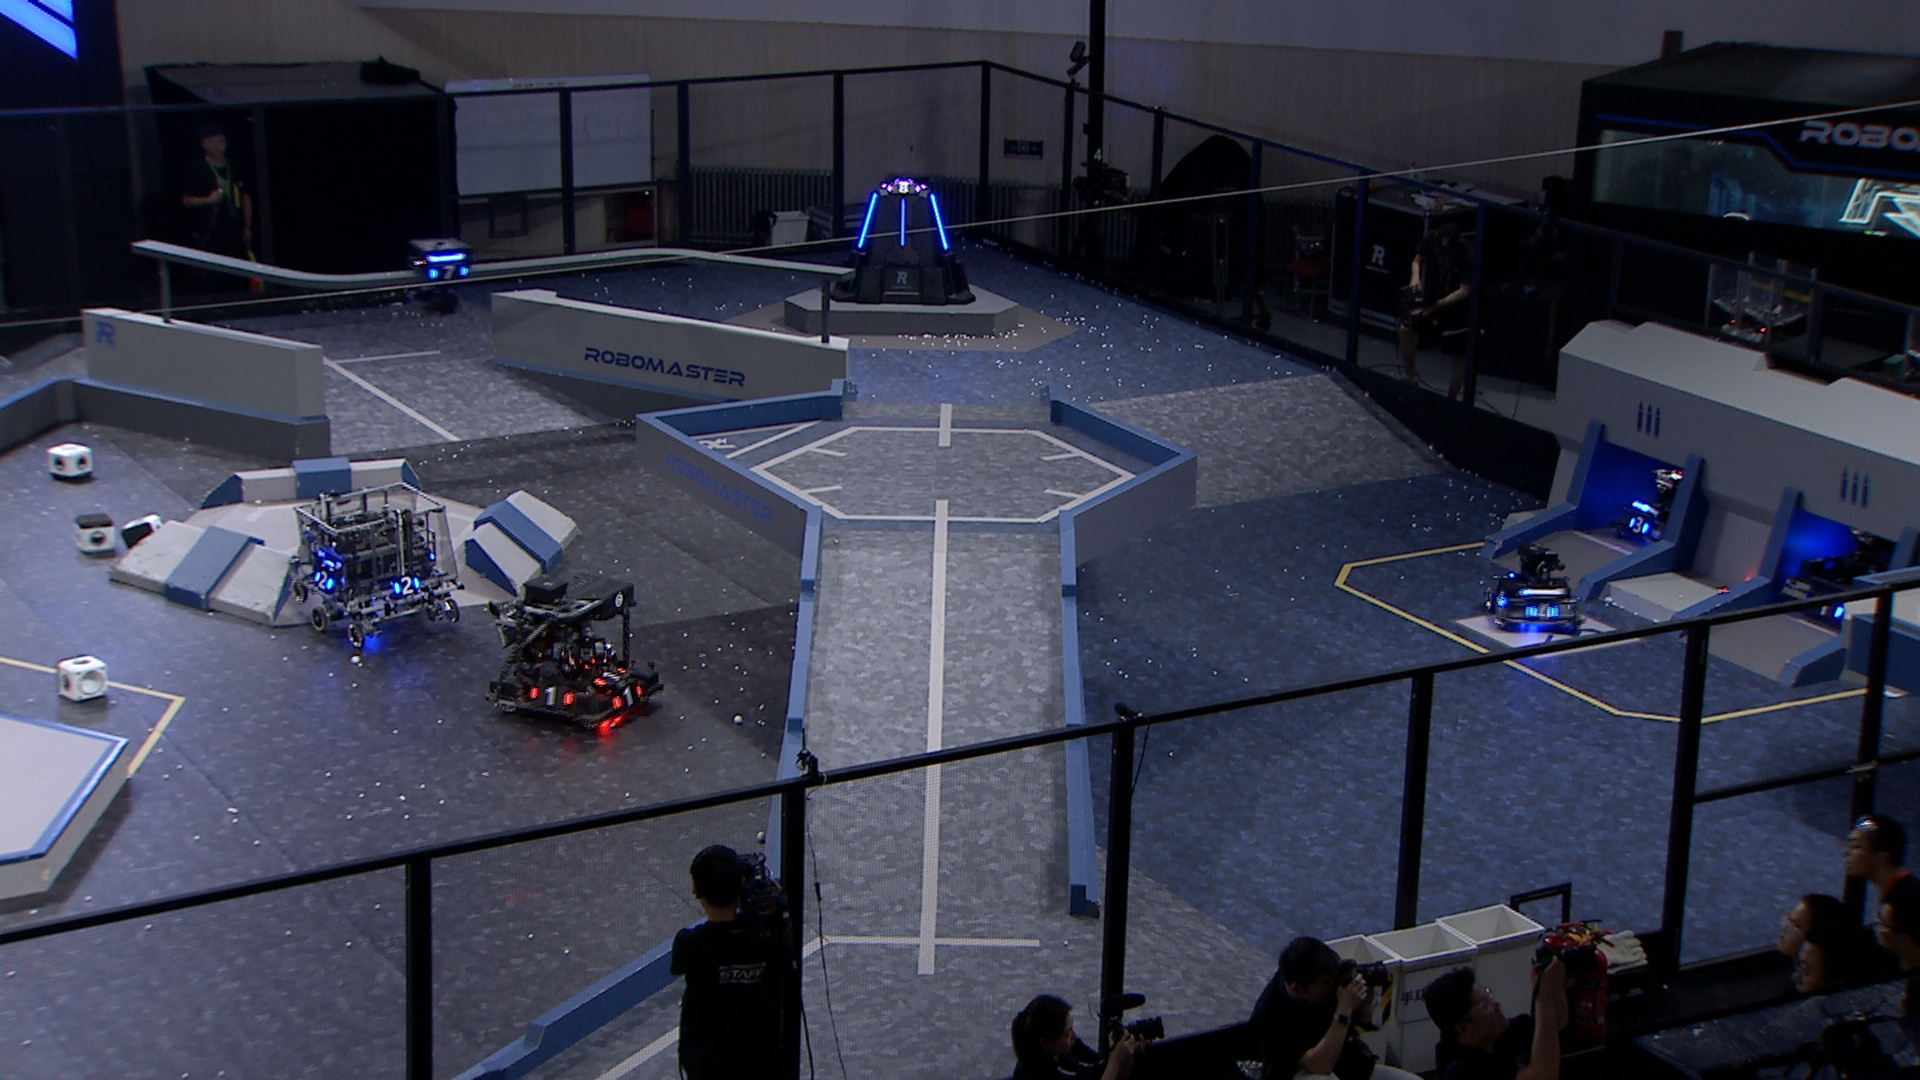armor: (927, 191, 957, 253), (527, 680, 582, 713), (855, 189, 880, 247), (611, 680, 647, 712), (1808, 589, 1846, 618), (593, 661, 628, 688), (427, 262, 472, 284), (386, 574, 423, 597), (1524, 603, 1560, 622), (1627, 513, 1652, 538), (311, 567, 335, 593), (1487, 585, 1513, 608), (898, 200, 909, 249)
base: (823, 171, 975, 309)
car: (485, 575, 670, 736), (289, 481, 460, 651), (1780, 524, 1920, 636), (1480, 545, 1592, 637), (1619, 462, 1722, 553)
ignore: (885, 179, 920, 195)
watcher: (404, 235, 480, 320)
